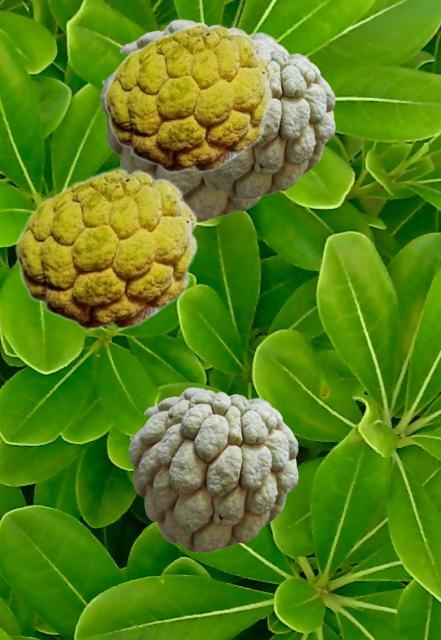atis: (100, 19, 289, 221), (14, 168, 197, 329), (128, 387, 297, 551), (103, 23, 272, 172), (201, 47, 334, 198)
